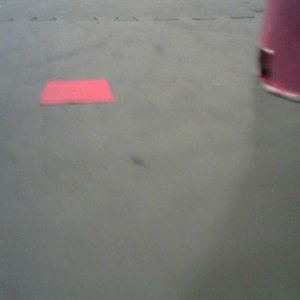right: (257, 1, 300, 106)
